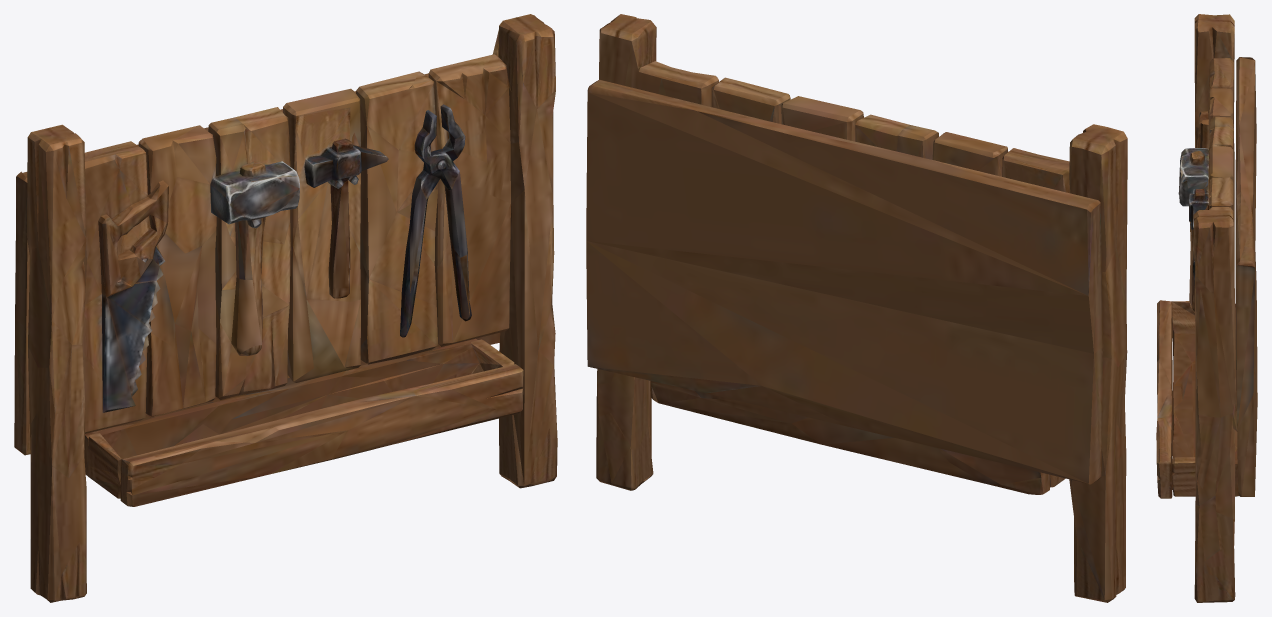
File: tool_rack_3d.glb
3 renders of one model, left to right at view 1: azimuth 30°, elevation 25°; view 2: azimuth 150°, elevation 25°; view 3: azimuth 270°, elevation 25°, orthographic. The views are drawn at different scales.
Parts seen in each view (by area): view 1: Mesh_0; view 2: Mesh_0; view 3: Mesh_0.
Boxes of the visible parts, bbox=[...] form: Mesh_0: bbox=[14, 14, 557, 602]; Mesh_0: bbox=[586, 14, 1127, 602]; Mesh_0: bbox=[1156, 14, 1257, 602].
Bounding box in the file's own units: 1.82 × 1.56 × 0.3717.
Materials: 1 (1 with a texture image).
